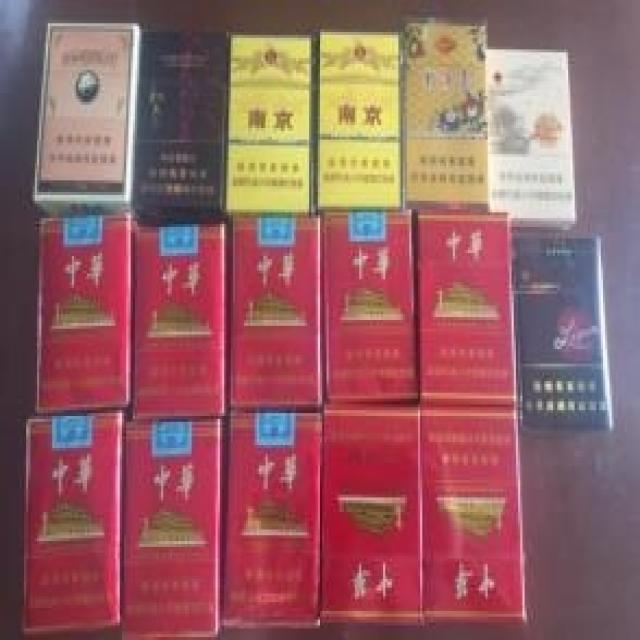box: (20, 410, 128, 637), (122, 416, 229, 640), (422, 404, 529, 628), (220, 404, 324, 634), (320, 404, 424, 631), (30, 23, 141, 218), (514, 230, 614, 436), (224, 212, 324, 410), (133, 212, 226, 422), (320, 209, 420, 404), (418, 209, 518, 404), (37, 212, 133, 413), (131, 32, 229, 221), (222, 32, 316, 215), (488, 49, 579, 233), (316, 32, 405, 212), (403, 23, 488, 209)
